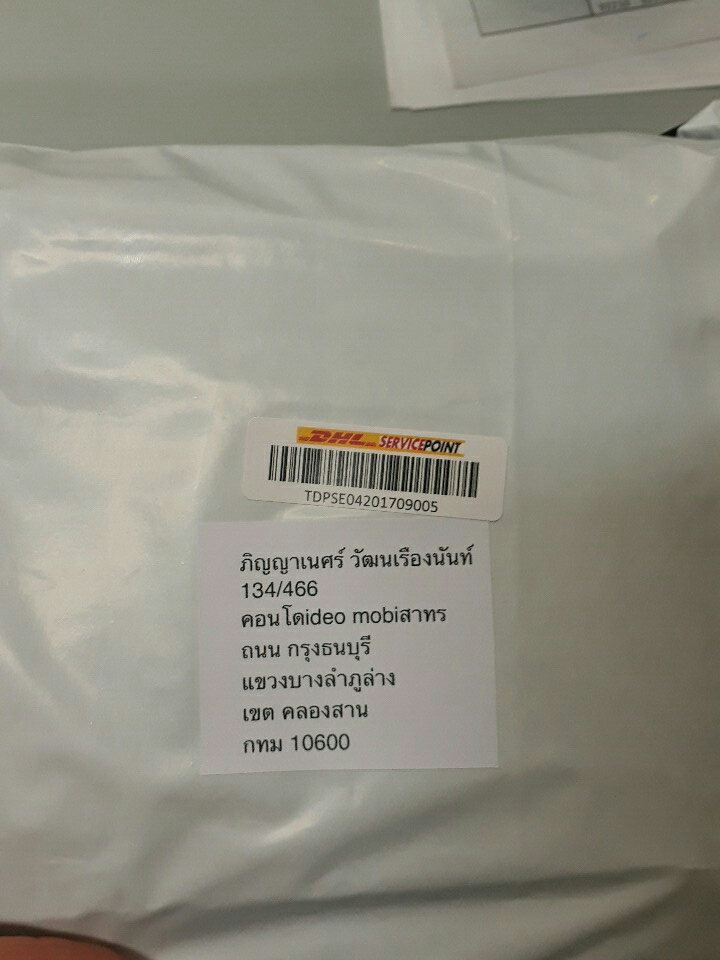txt: (233, 540, 488, 757)
